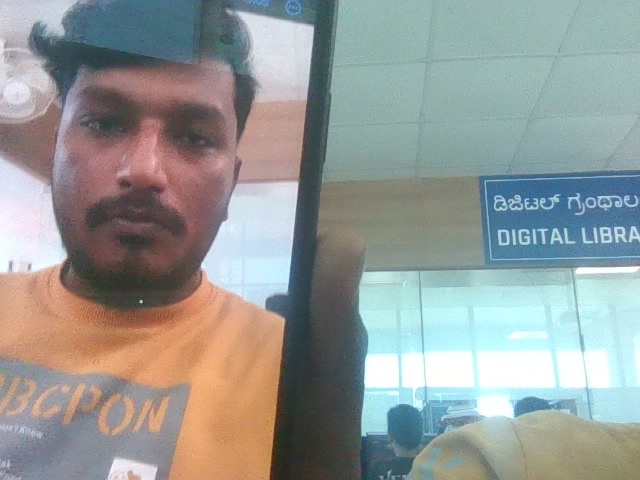fake: (22, 0, 264, 343)
